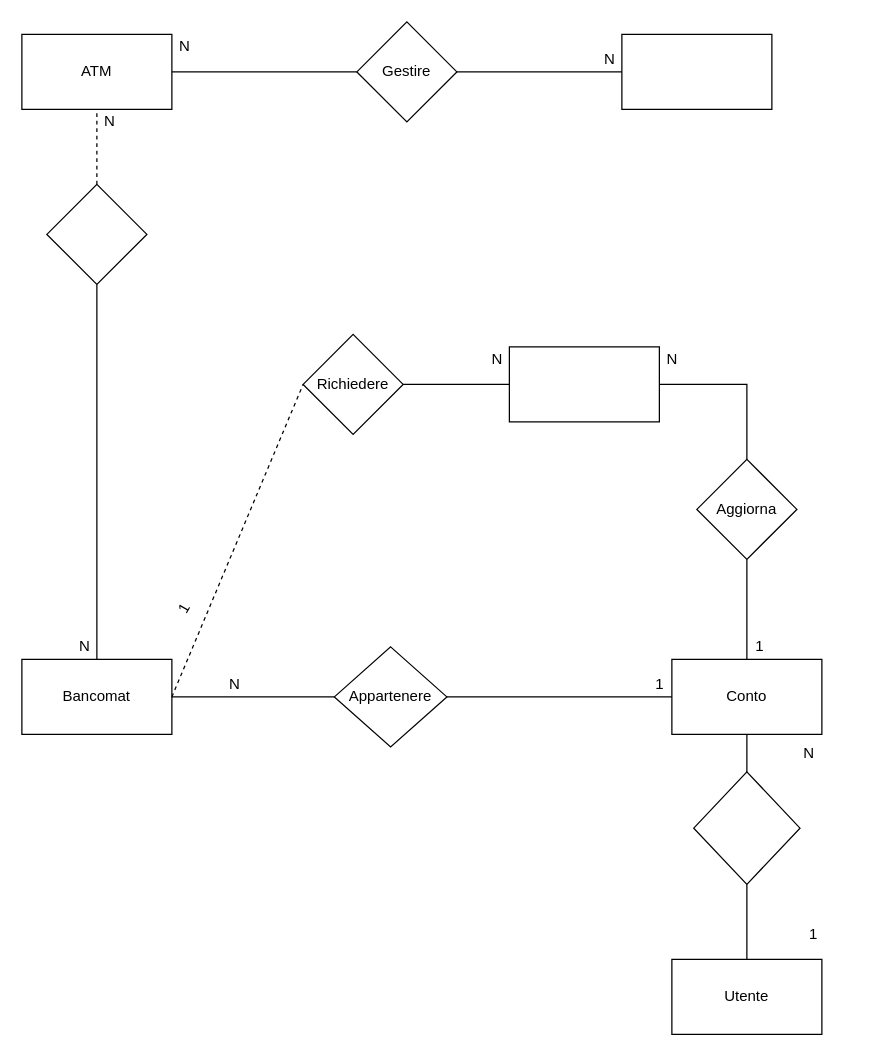
The diagram is 869 pixels wide and 1056 high, and some of its shapes have lost their labels. The centre of each missing label's shape, as x and y in pixels:
Interagire: point (96, 233)
Movimento: point (583, 384)
Possedere: point (746, 827)
Tecnico: point (696, 71)
